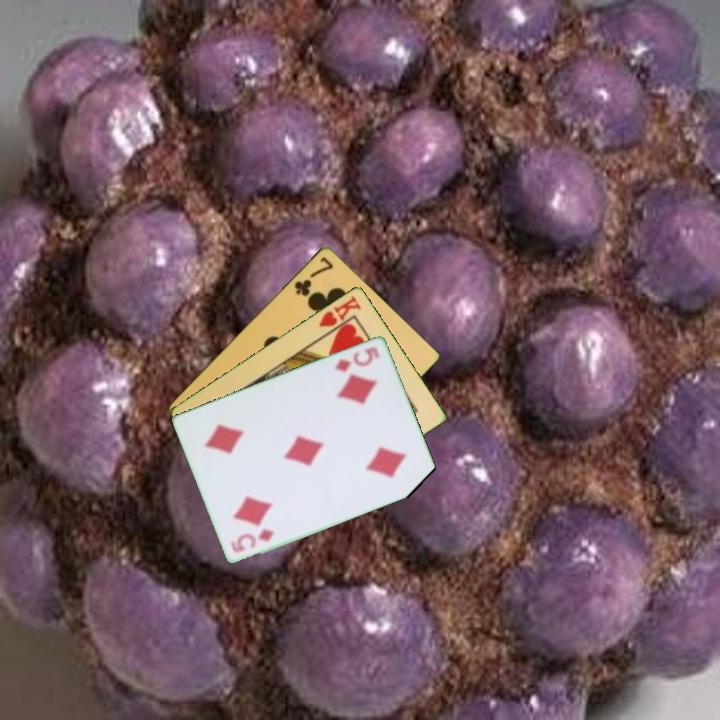5d: (331, 342, 383, 374), (227, 525, 277, 556)
7c: (291, 253, 336, 299)
Kh: (315, 292, 364, 339)
